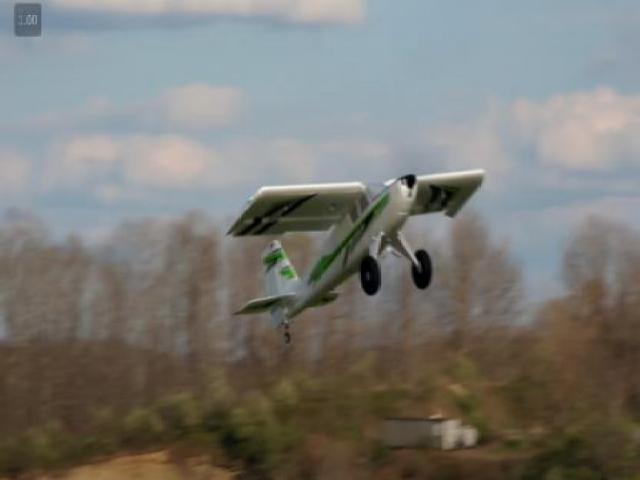uav: (225, 169, 484, 325)
